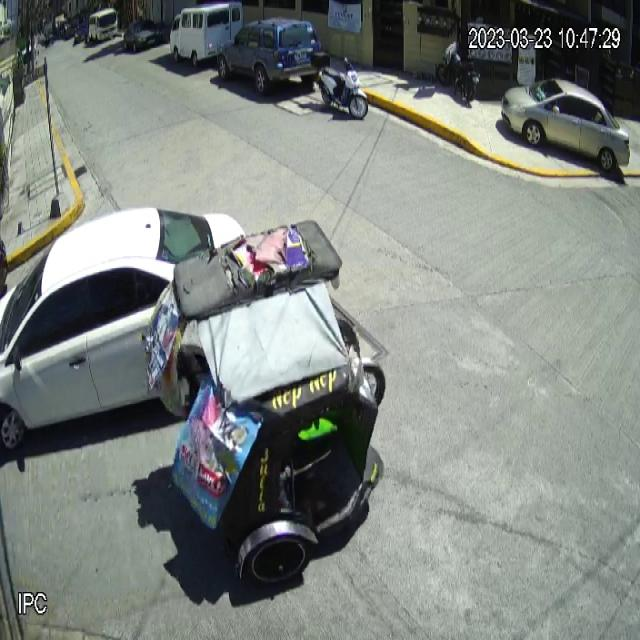Car: (0, 207, 247, 450), (500, 78, 630, 174), (218, 17, 324, 99)
Motorcycle: (312, 48, 369, 120)
Tricycle: (149, 218, 389, 588)
Van: (170, 1, 245, 67)
